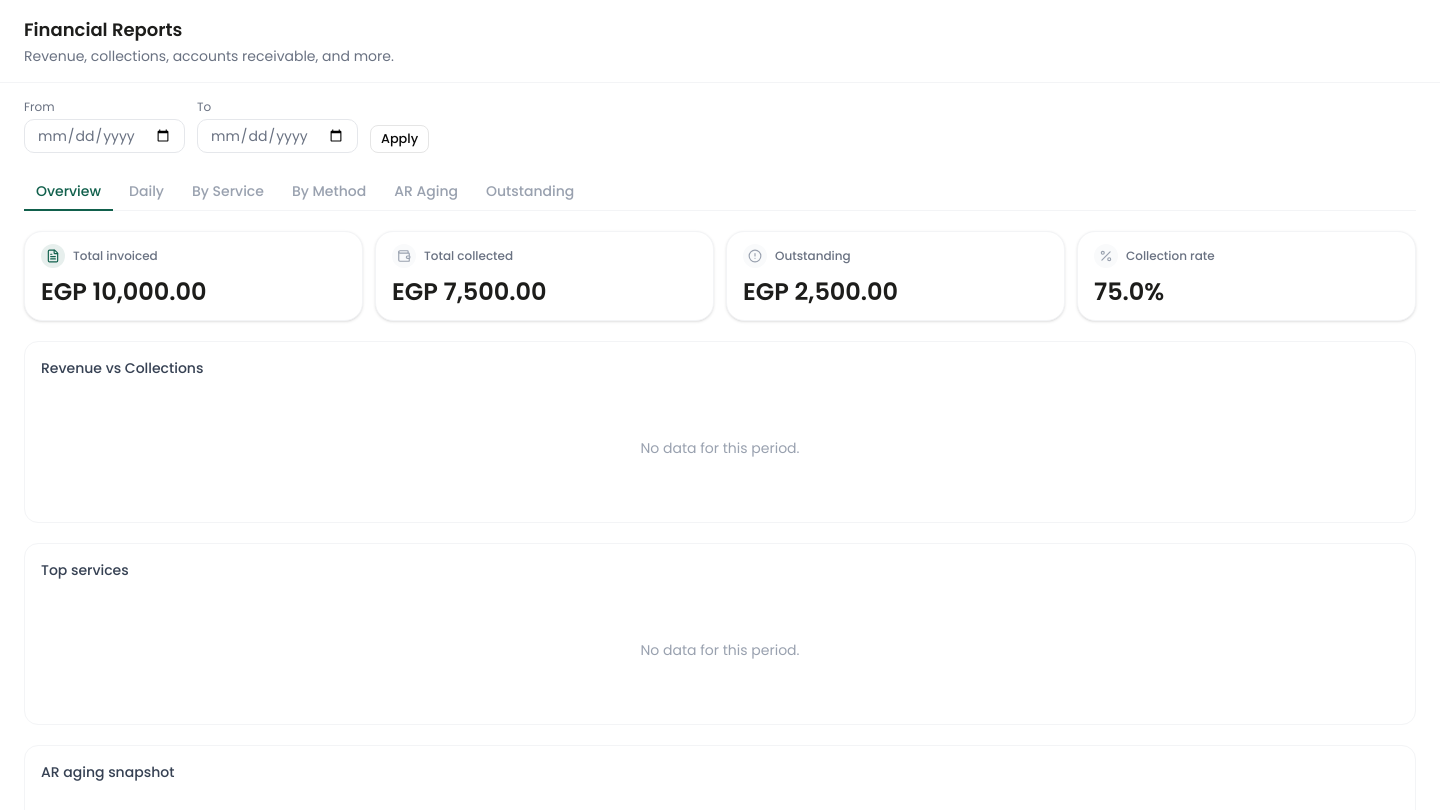
Test: ReportsPage — Overview › shows a share-% column on the By Method tab
Click the button "By Method". click: click(329, 192)
box: [280,173,378,211]
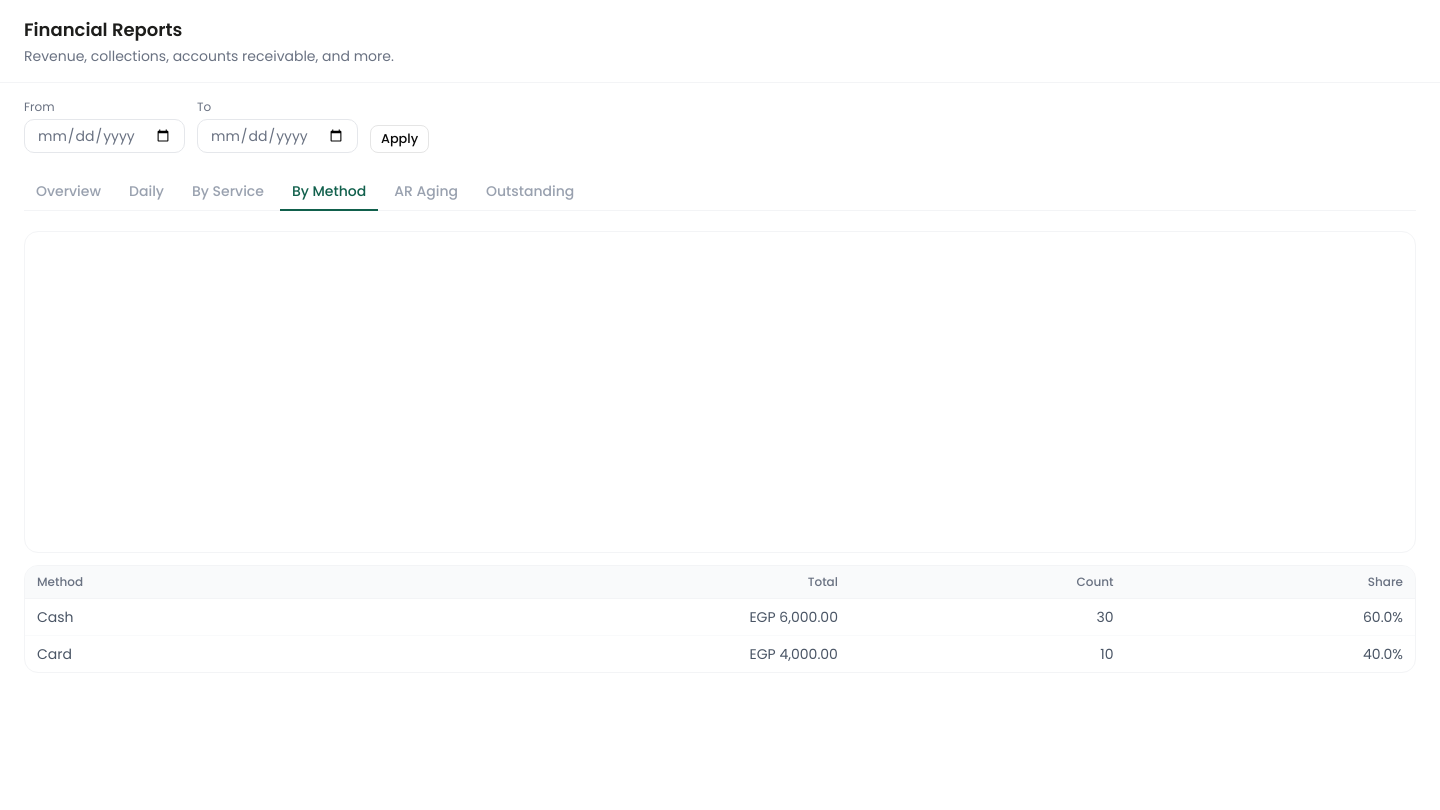
Check: the column heading "Share" is shown, box [1126,566,1415,598]
Check: the text "60.0%" is shown, box [1126,598,1415,636]
